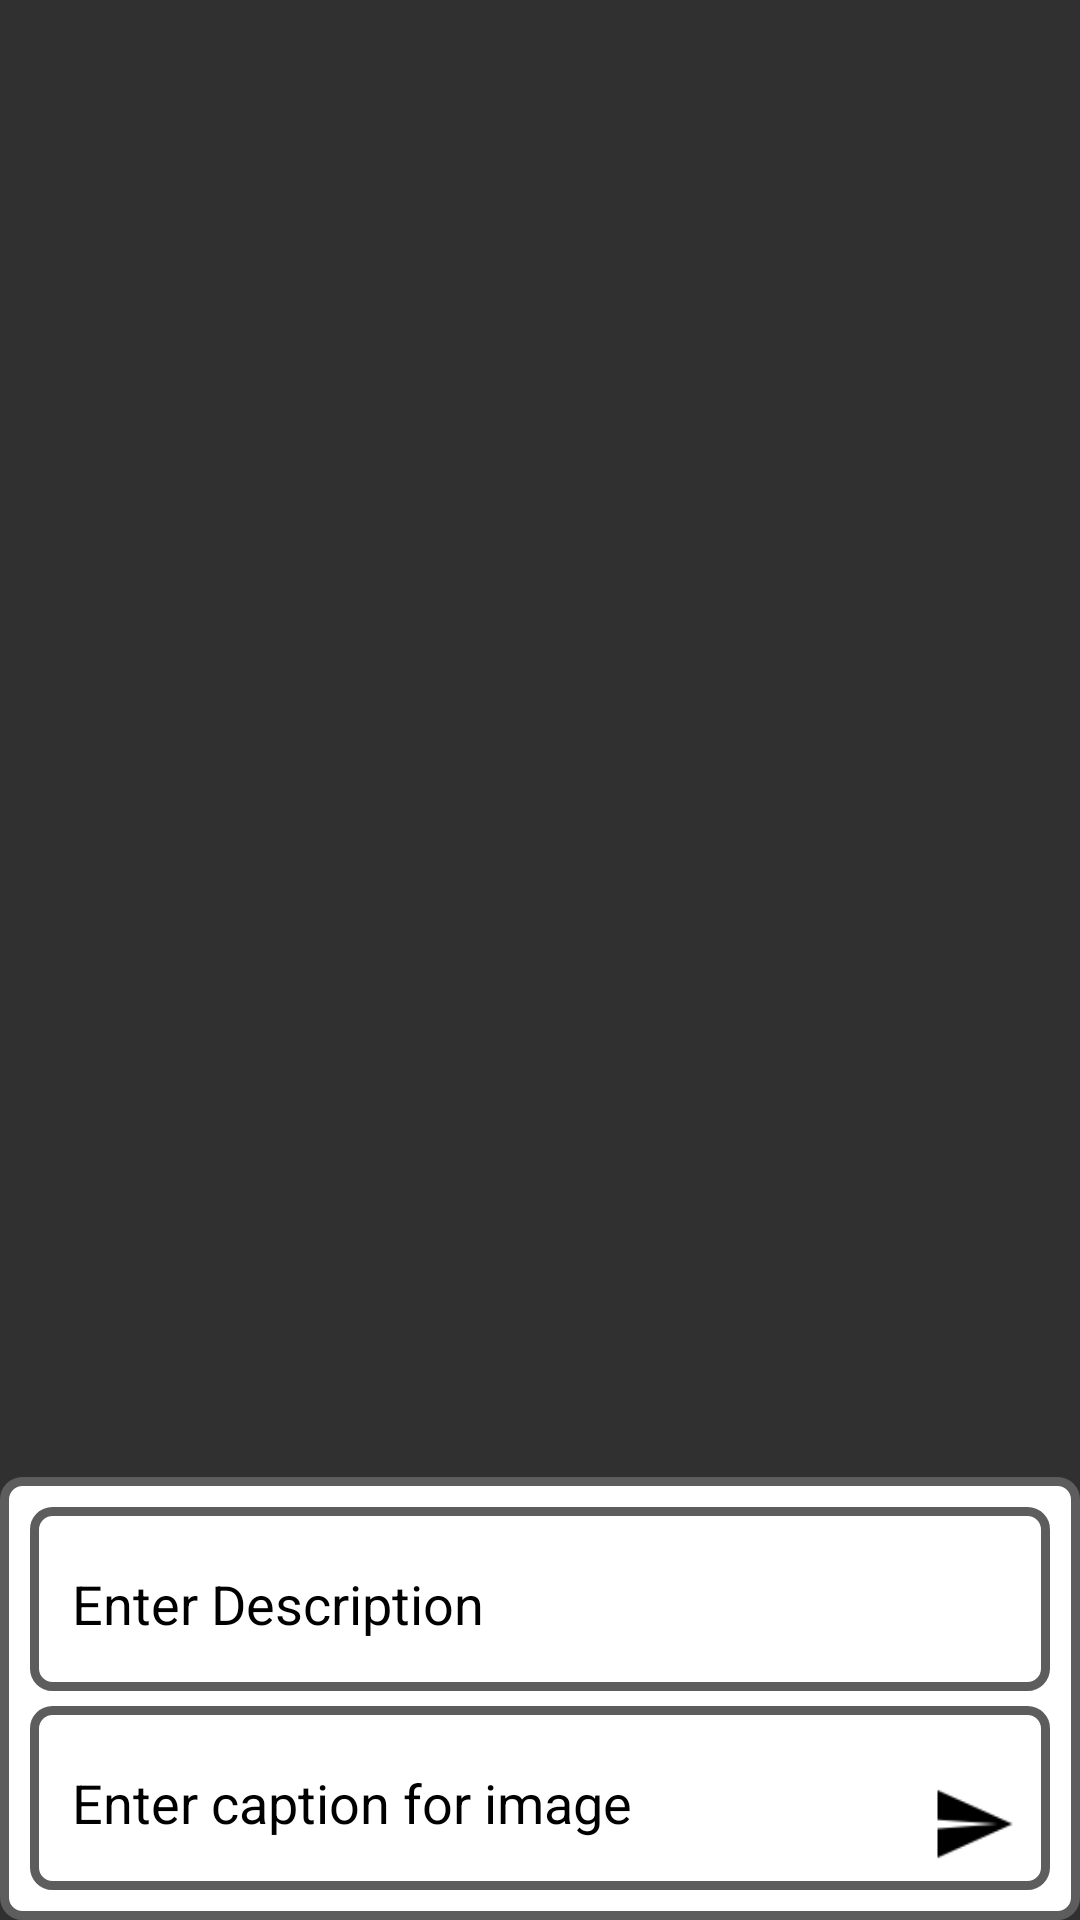

Icons on this 1080x1920 Android screen, each with the point to tap as (x=x, y=y):
send: (x=975, y=1824)
